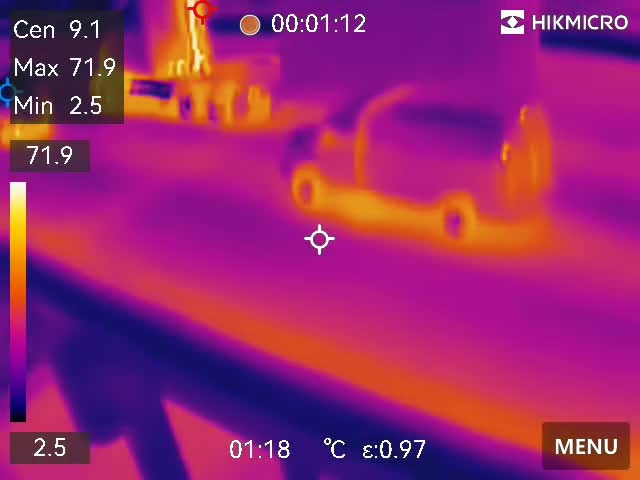heavyTruck: (79, 3, 550, 112)
lightTruck: (275, 79, 565, 242)
